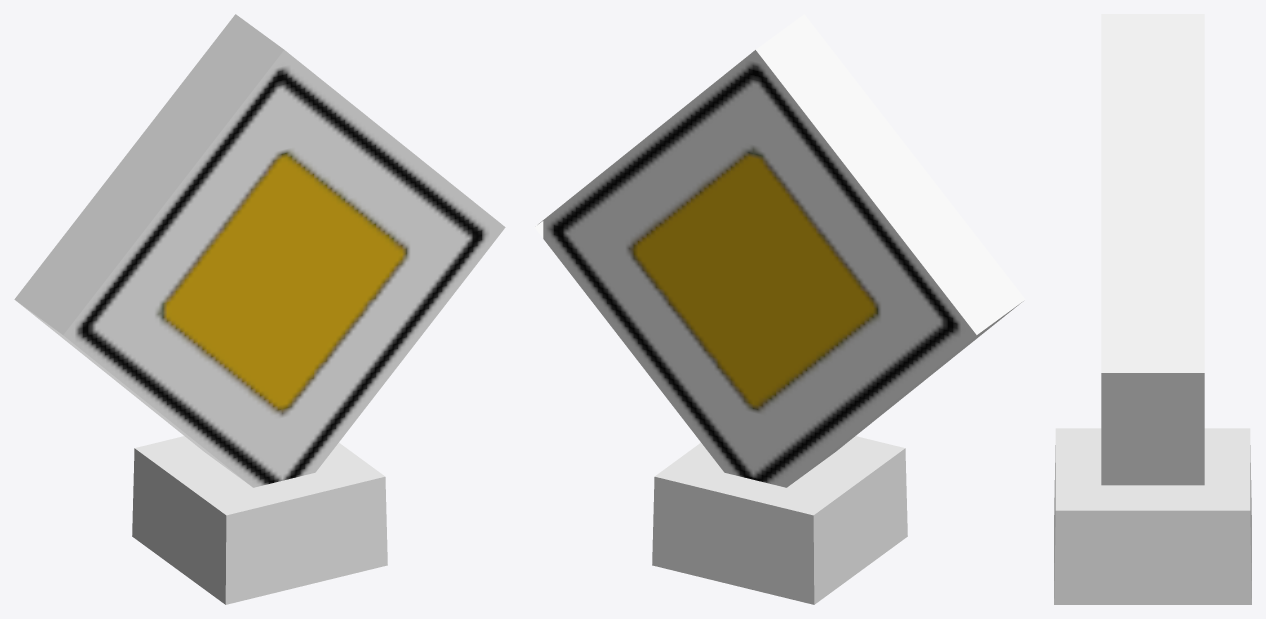
Rendered from Part_Sign_Main_road.FBX.
The picture shows the model from 3 angles, left to right: view 1: azimuth 30°, elevation 25°; view 2: azimuth 150°, elevation 25°; view 3: azimuth 270°, elevation 25°; orthographic projection. The views are drawn at different scales.
Visible parts, largest first — view 1: Part_Sign_Main_road; view 2: Part_Sign_Main_road; view 3: Part_Sign_Main_road.
Part boxes in pixels (left/top/right/bottom): Part_Sign_Main_road: left=14, top=14, right=505, bottom=604; Part_Sign_Main_road: left=534, top=14, right=1025, bottom=604; Part_Sign_Main_road: left=1054, top=14, right=1251, bottom=604.
Bounding box in the file's own units: 261 × 293 × 95.71.
